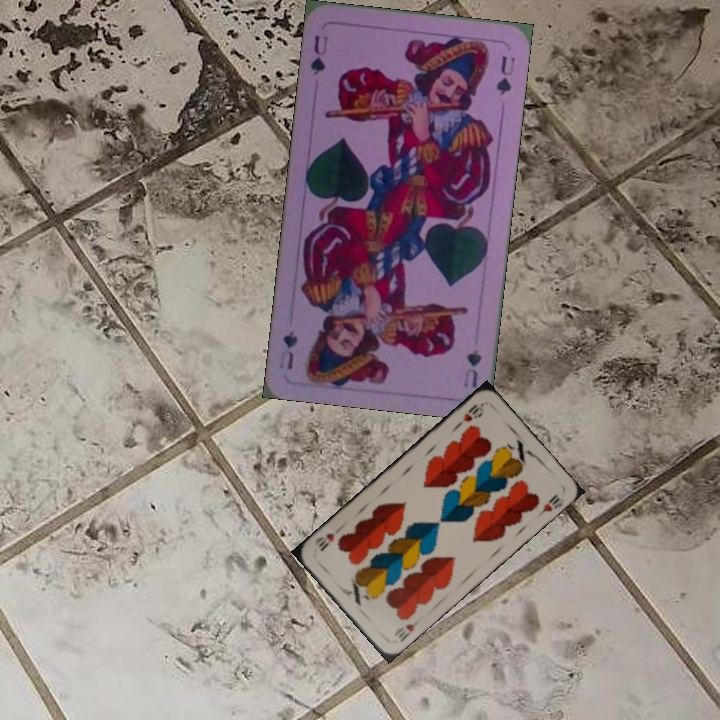GU: (306, 31, 330, 78), (460, 345, 484, 390)
H10: (452, 399, 486, 430), (390, 614, 424, 645)
